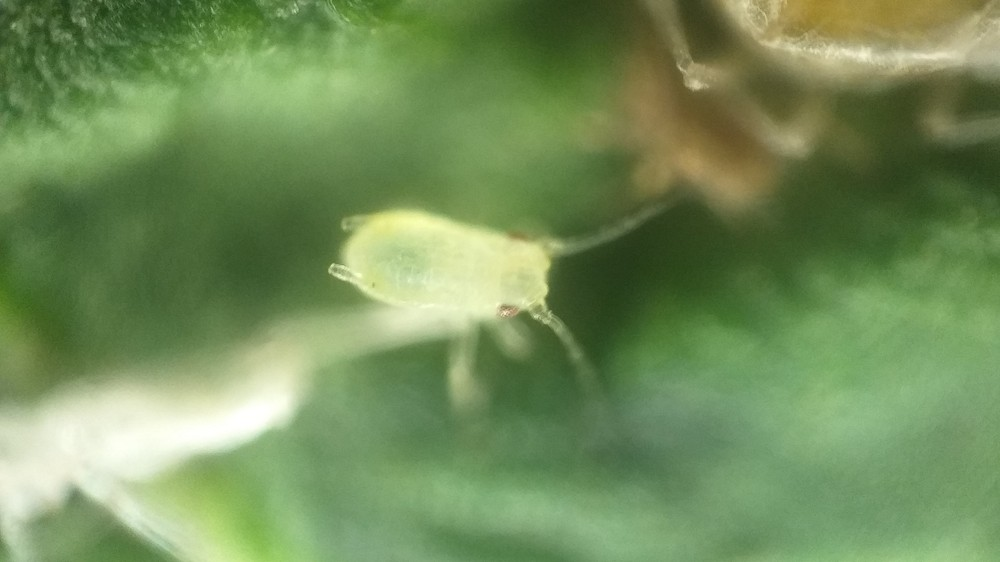Pulgon: (309, 160, 690, 439)
